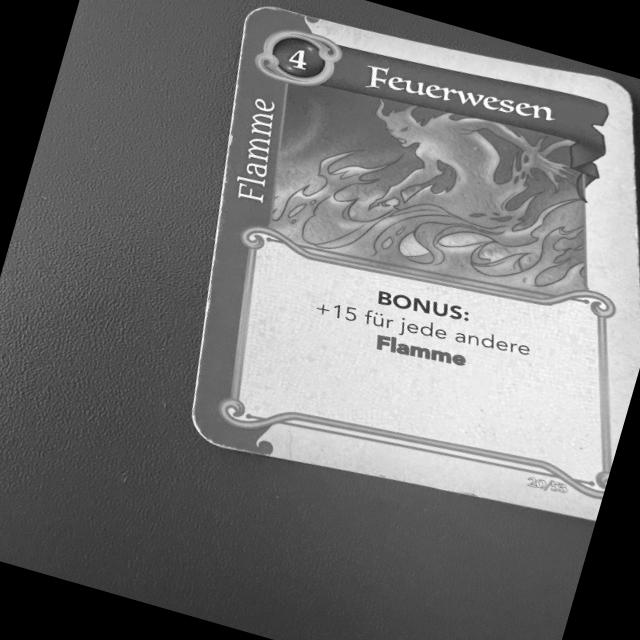Fire Elemental: (186, 0, 640, 523)
